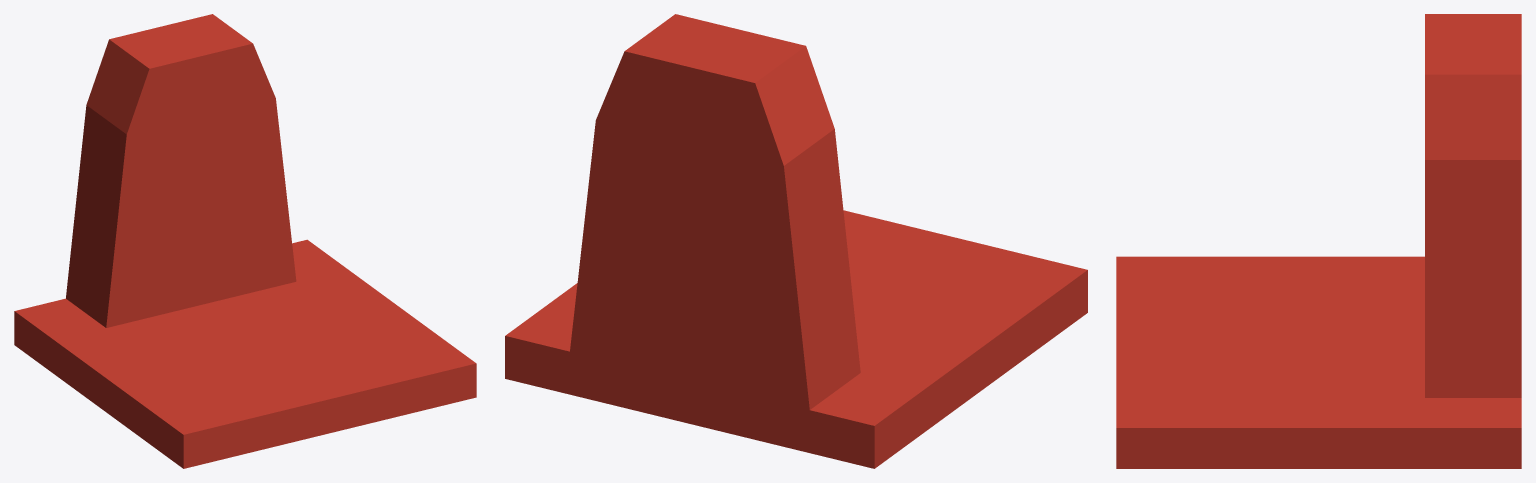
File: SM_Tower_Damage.fbx
3 renders of one model, left to right at view 1: azimuth 30°, elevation 25°; view 2: azimuth 150°, elevation 25°; view 3: azimuth 270°, elevation 25°, orthographic. The views are drawn at different scales.
Parts seen in each view (by area): view 1: SM_Tower_Damage; view 2: SM_Tower_Damage; view 3: SM_Tower_Damage.
Part boxes in pixels (x1=…): SM_Tower_Damage: x1=14, y1=14, x2=476, y2=468; SM_Tower_Damage: x1=505, y1=14, x2=1087, y2=468; SM_Tower_Damage: x1=1116, y1=14, x2=1521, y2=468.
Size of the model in its own units: 146 by 134 by 146.
